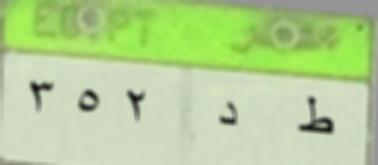2: (121, 84, 149, 130)
3: (28, 74, 58, 118)
5: (71, 82, 101, 122)
Taa: (291, 91, 336, 142)
daal: (211, 95, 243, 138)
